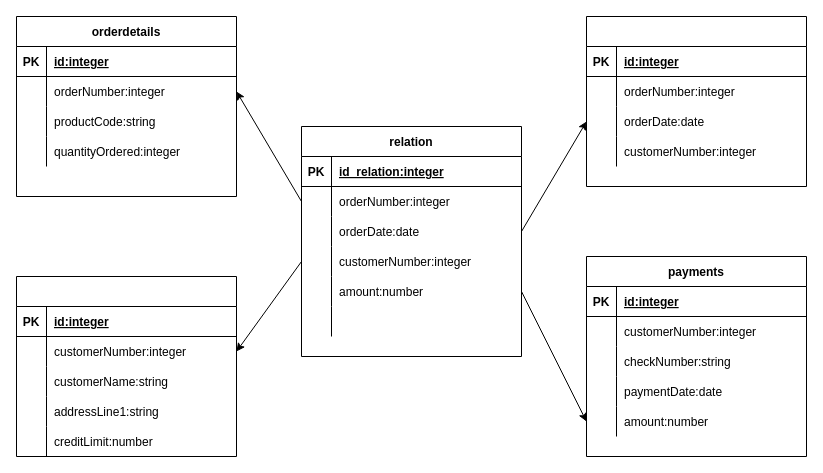
Image size: 823x473. Some labels were removed from this diagram. Here are the shapes that lost their labels. From the top down, the box of each, then its label:
(586, 16, 806, 186): orders
(16, 276, 236, 456): customers
